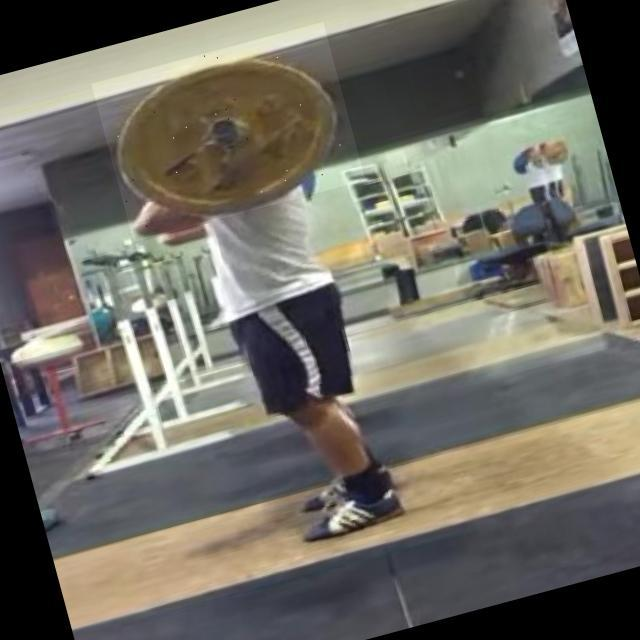barbell: (92, 23, 366, 243)
